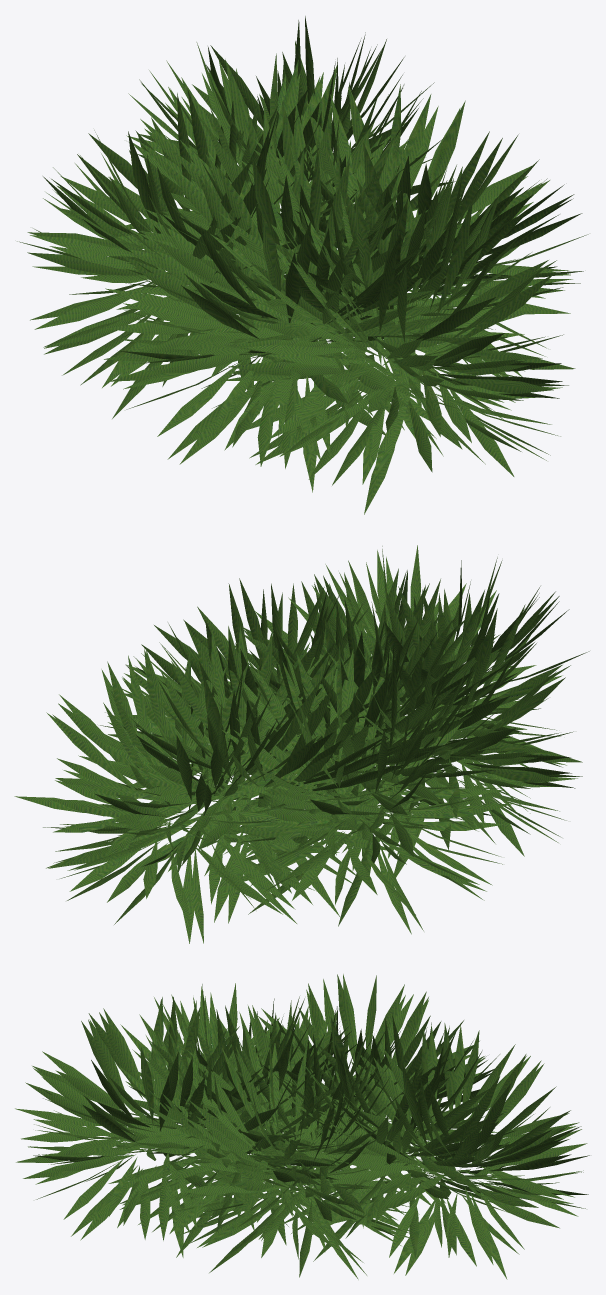
The model's file is jungle_shurb1.fbx.
3 renders of one model, top to bottom at view 1: azimuth 30°, elevation 25°; view 2: azimuth 150°, elevation 25°; view 3: azimuth 270°, elevation 25°, orthographic. The views are drawn at different scales.
Visible parts, largest first — view 1: weed010; view 2: weed010; view 3: weed010.
Boxes of the visible parts, x1,y1,x2,y2 form: weed010: [17, 16, 588, 514]; weed010: [14, 545, 589, 943]; weed010: [15, 974, 589, 1279].
Size of the model in its own units: 5573 by 7755 by 2855.
